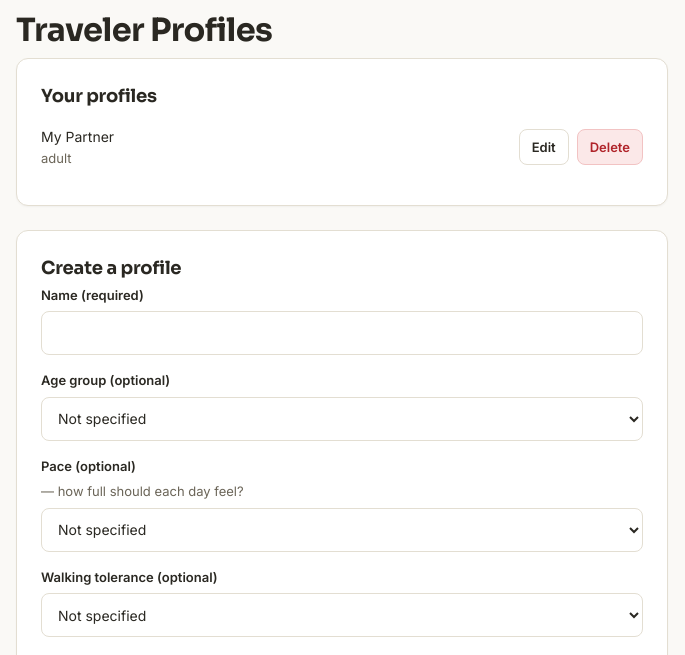
TravelerProfilesPage › deletes a profile after the user confirms
Expected: the text "My Partner" is shown, [41,128,114,145]
Click the button "Delete" at (610, 147), box [577,129,643,165]
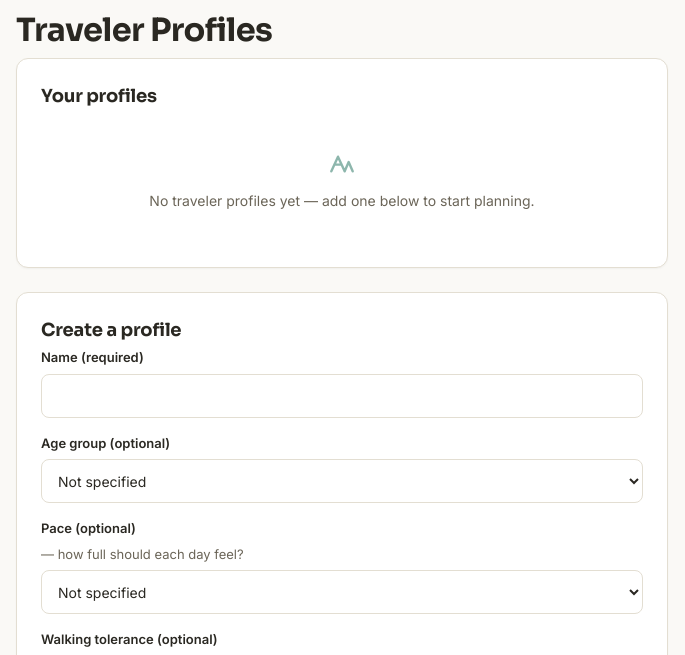
Now the text "My Partner" is gone
